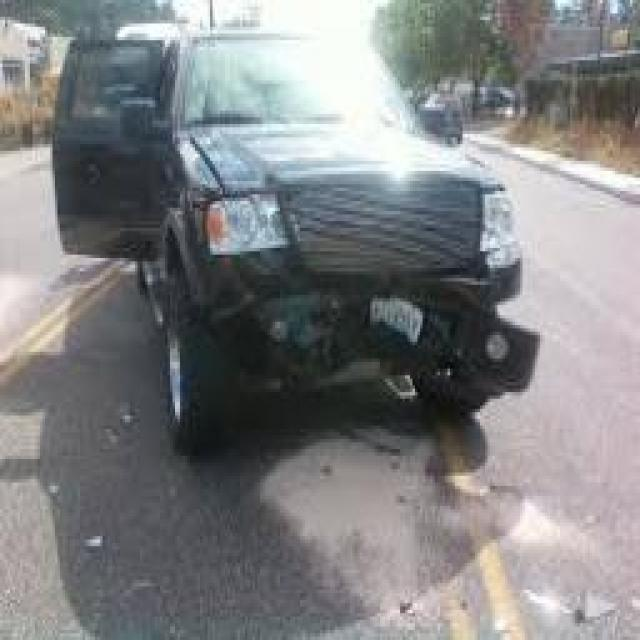replaceable: (192, 271, 539, 424)
